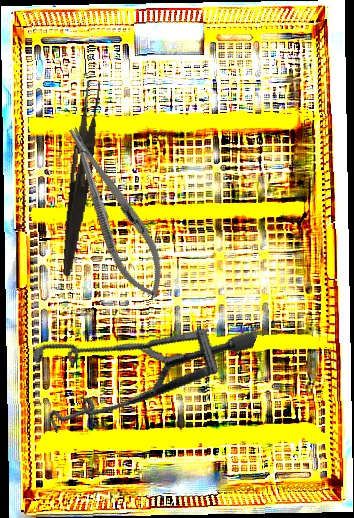Dressing Forceps: (59, 79, 102, 278)
Needle Holder: (52, 117, 178, 308)
Speculum: (10, 261, 260, 486)
